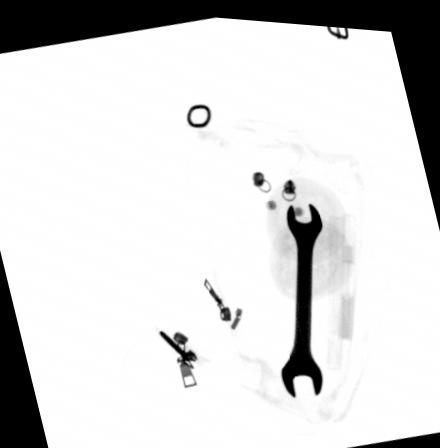Wrench: (279, 194, 326, 393)
